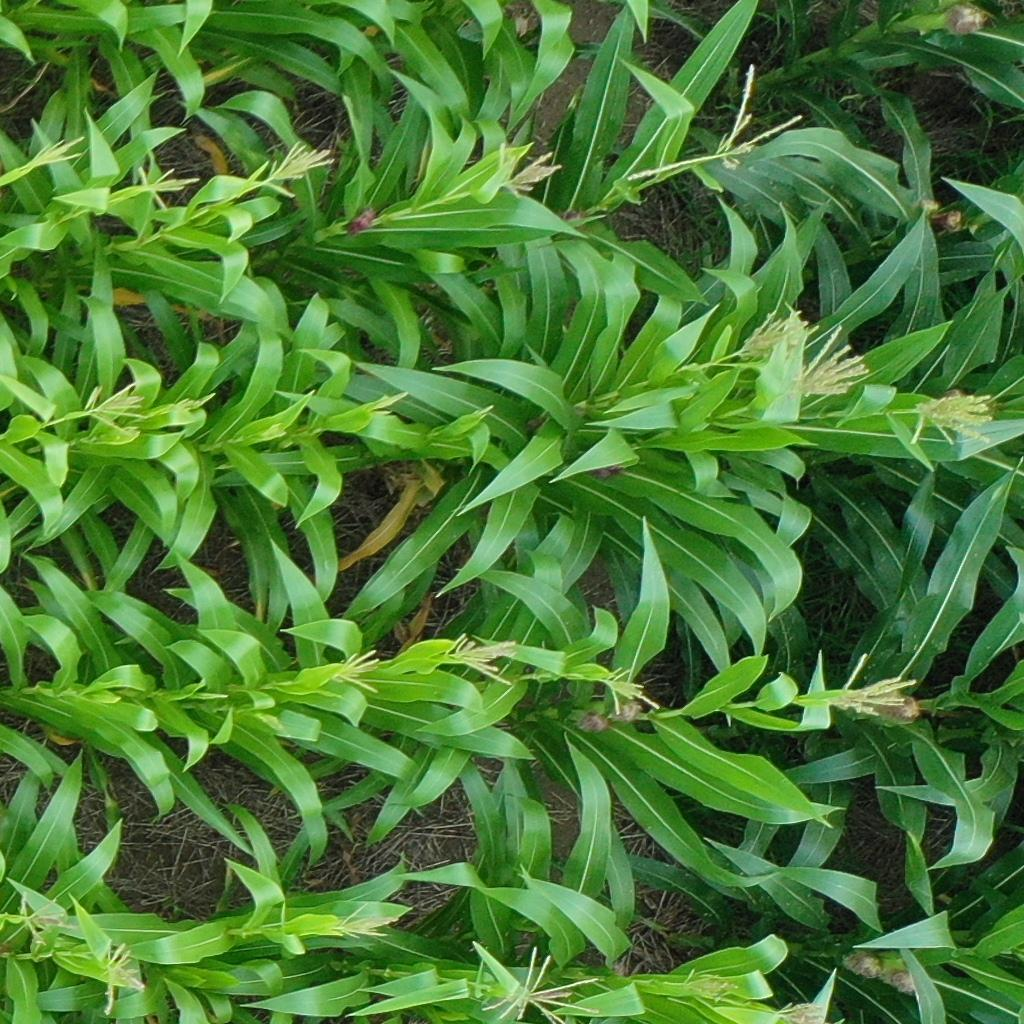Tassel: (476, 935, 607, 1024), (72, 374, 219, 437), (721, 63, 799, 172), (794, 313, 874, 413), (899, 385, 998, 457), (833, 646, 915, 729), (441, 619, 527, 695), (730, 300, 815, 367), (486, 132, 556, 203), (261, 141, 341, 202), (92, 935, 151, 1016), (132, 157, 198, 218), (595, 664, 660, 721), (337, 900, 401, 947), (7, 887, 62, 941), (338, 636, 379, 700), (19, 136, 84, 174), (775, 997, 839, 1024), (687, 966, 743, 996)
